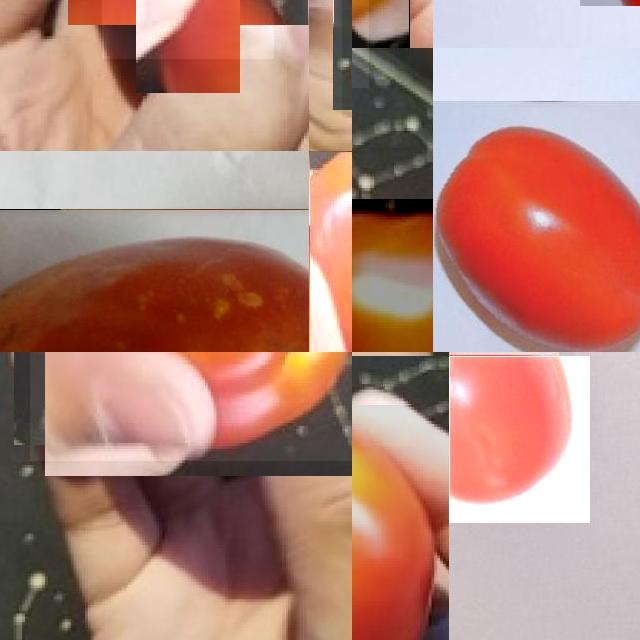Fresh Tomato: (433, 101, 640, 352), (29, 352, 352, 460), (449, 356, 590, 523), (352, 405, 449, 640), (102, 0, 274, 59)
Rotten Tomato: (0, 209, 309, 352)
